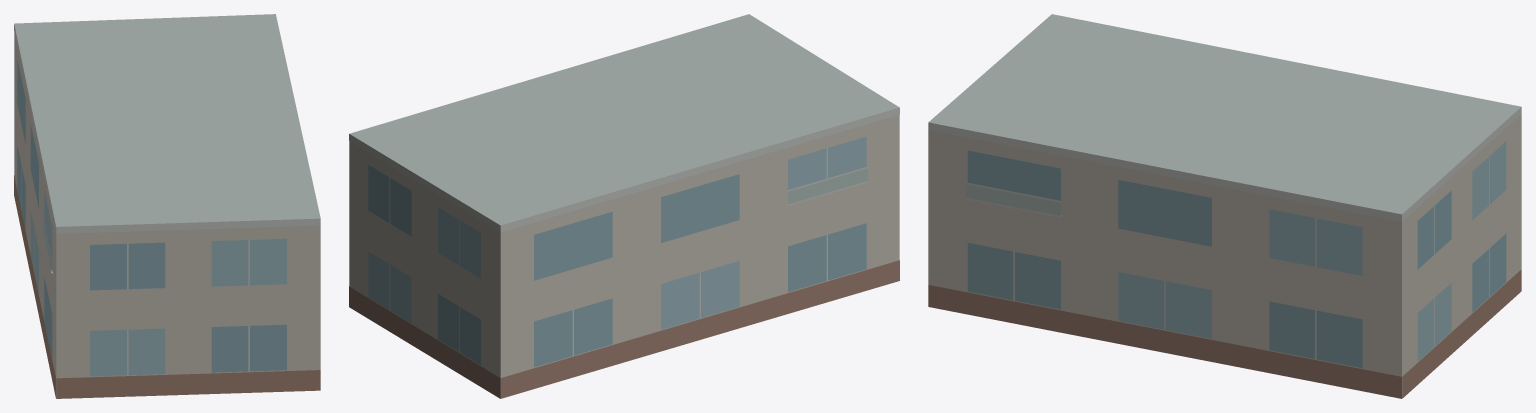
File: survey-upis-32720691.glb
3 views of the same model, side by side, from view 1: azimuth 30°, elevation 25°; view 2: azimuth 150°, elevation 25°; view 3: azimuth 270°, elevation 25° (orthographic). The views are drawn at different scales.
Parts seen in each view (by area): view 1: survey-upis-32720691.tmp; view 2: survey-upis-32720691.tmp; view 3: survey-upis-32720691.tmp.
Boxes of the visible parts, x1,y1,x2,y2 form: survey-upis-32720691.tmp: (14, 14, 320, 398); survey-upis-32720691.tmp: (349, 14, 899, 398); survey-upis-32720691.tmp: (928, 14, 1521, 398).
Size of the model in its own units: 14.22 by 6.1 by 17.79.
